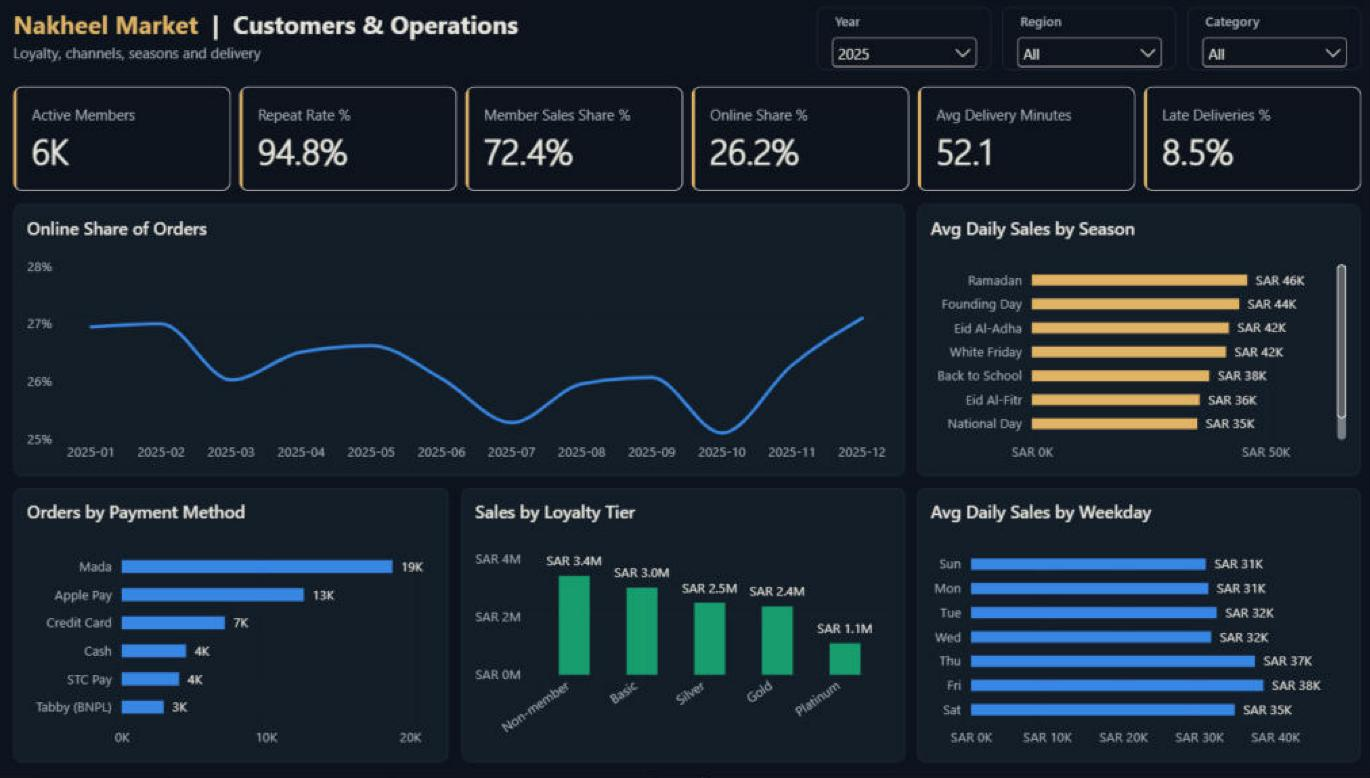

The dashboard page shown, as its layout file describes it:
{"tool":"powerbi","page":{"name":"Customers & Operations","canvas":[1280,720],"ordinal":2},"visuals":[{"type":"textbox","box":[20,10,640,34],"z":1000},{"type":"textbox","box":[20,42,700,22],"z":2000},{"type":"slicer","fields":{"Values":["DimDate.Year"]},"box":[760,10,160,58],"z":3000},{"type":"slicer","fields":{"Values":["DimBranch.Region"]},"box":[930,10,160,58],"z":4000},{"type":"slicer","fields":{"Values":["DimProduct.Category"]},"box":[1100,10,160,58],"z":5000},{"type":"cardVisual","fields":{"Data":["_Measures.Active Members","_Measures.Repeat Rate %","_Measures.Member Sales Share %","_Measures.Online Share %","_Measures.Avg Delivery Minutes","_Measures.Late Deliveries %"]},"box":[20,82,1240,96],"z":6000},{"type":"lineChart","title":"Online Share of Orders","fields":{"Category":["DimDate.YearMonth"],"Y":["_Measures.Online Share %"]},"box":[20,190,820,250],"z":7000},{"type":"clusteredBarChart","title":"Avg Daily Sales by Season","fields":{"Category":["DimDate.Season"],"Y":["_Measures.Avg Daily Sales"]},"box":[852,190,408,250],"z":8000},{"type":"clusteredBarChart","title":"Orders by Payment Method","fields":{"Category":["FactSales.PaymentMethod"],"Y":["_Measures.Orders"]},"box":[20,452,400,252],"z":9000},{"type":"clusteredColumnChart","title":"Sales by Loyalty Tier","fields":{"Category":["DimCustomer.LoyaltyTier"],"Y":["_Measures.Total Sales"]},"box":[432,452,408,252],"z":10000},{"type":"clusteredBarChart","title":"Avg Daily Sales by Weekday","fields":{"Category":["DimDate.DayName"],"Y":["_Measures.Avg Daily Sales"]},"box":[852,452,408,252],"z":11000}]}

Visuals, with their boxes in screenshot pixels (x1, y1, x2, y2), scaled from the page's 1280x720 canvas onto the 1370x778 screenshot:
textbox: BBox(21, 11, 706, 48)
textbox: BBox(21, 45, 771, 69)
slicer - DimDate.Year: BBox(813, 11, 985, 73)
slicer - DimBranch.Region: BBox(995, 11, 1167, 73)
slicer - DimProduct.Category: BBox(1177, 11, 1349, 73)
cardVisual - _Measures.Active Members x _Measures.Repeat Rate %: BBox(21, 89, 1349, 192)
"Online Share of Orders" lineChart: BBox(21, 205, 899, 475)
"Avg Daily Sales by Season" clusteredBarChart: BBox(912, 205, 1349, 475)
"Orders by Payment Method" clusteredBarChart: BBox(21, 488, 450, 761)
"Sales by Loyalty Tier" clusteredColumnChart: BBox(462, 488, 899, 761)
"Avg Daily Sales by Weekday" clusteredBarChart: BBox(912, 488, 1349, 761)
